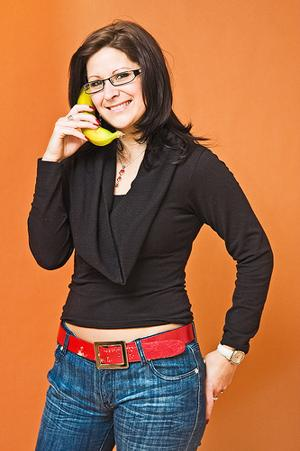person: (26, 23, 275, 448)
